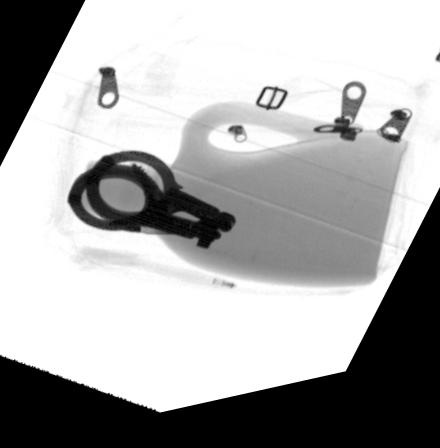Bullet: (101, 225, 182, 239)
HandCuffs: (67, 152, 242, 260)
